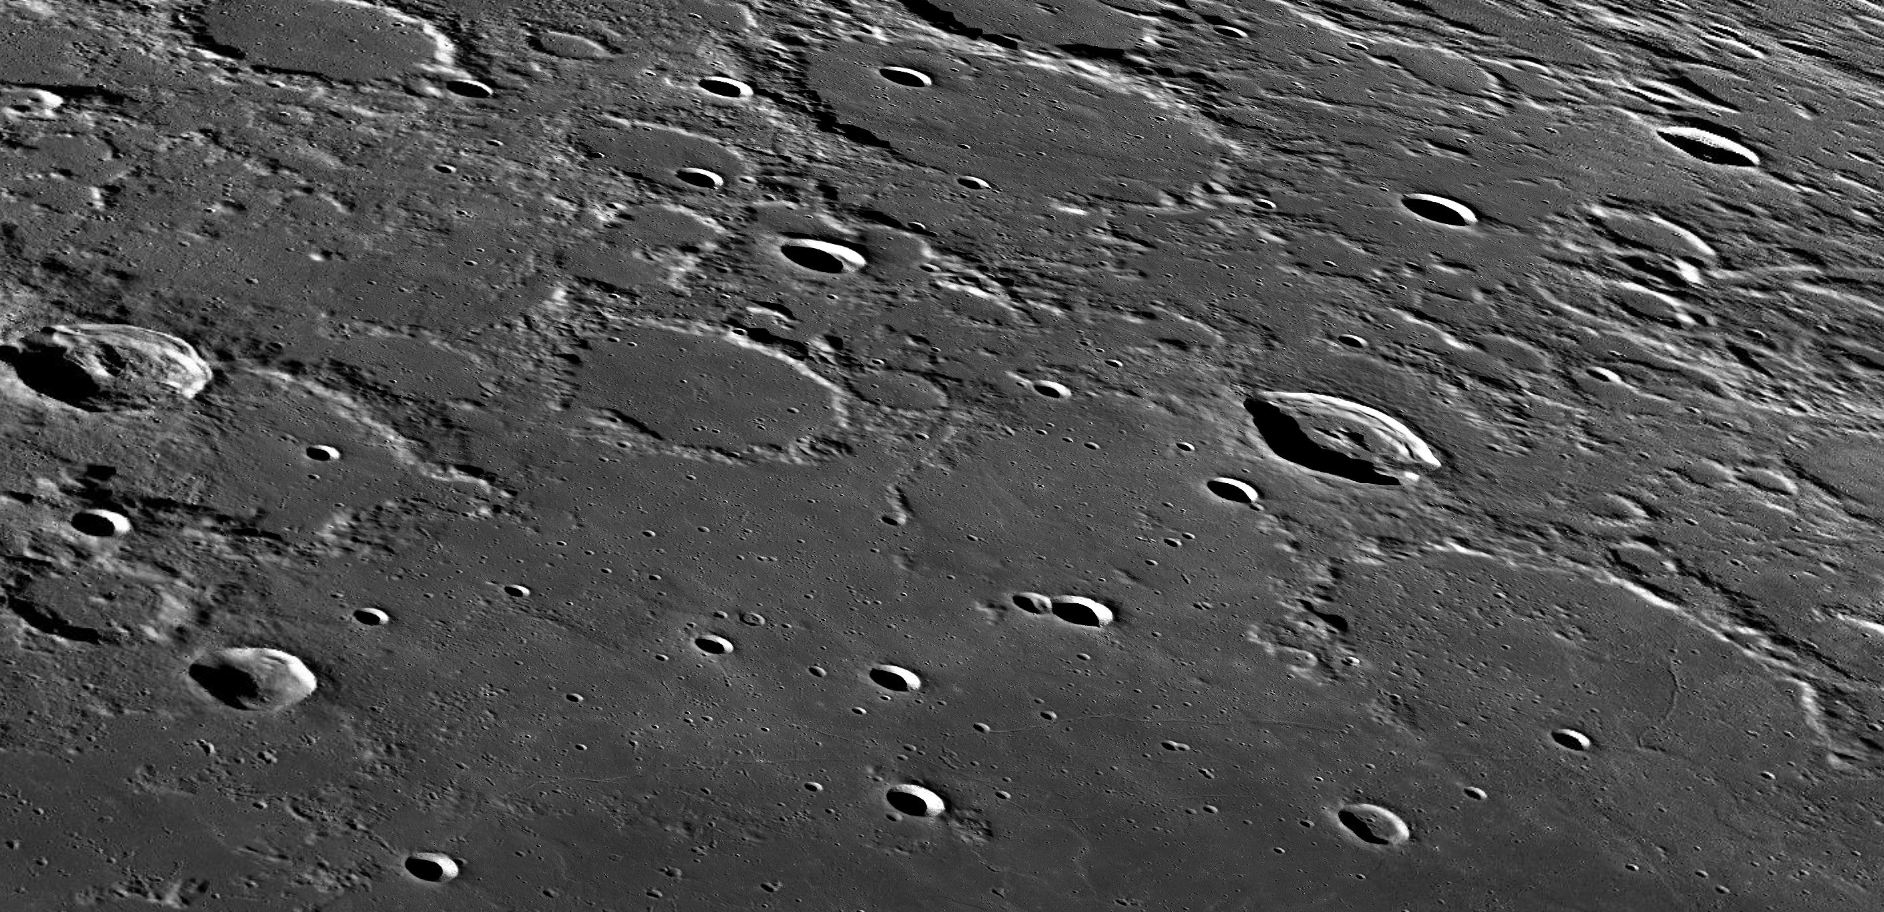crater: (505, 272, 902, 547), (1240, 348, 1475, 536), (2, 287, 248, 454), (165, 634, 357, 771), (1599, 102, 1802, 192), (1364, 154, 1531, 263), (847, 747, 998, 866), (834, 35, 1010, 129), (636, 589, 783, 687), (366, 817, 524, 902), (1312, 777, 1439, 863), (860, 646, 980, 729)
